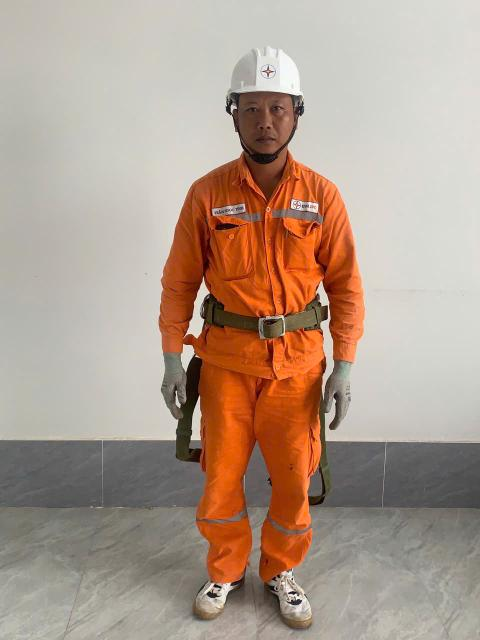gloves: (148, 335, 203, 425), (321, 352, 367, 442)
harness: (203, 279, 340, 348)
helmet: (211, 45, 323, 112)
shoes: (180, 542, 258, 625), (256, 551, 333, 632)
